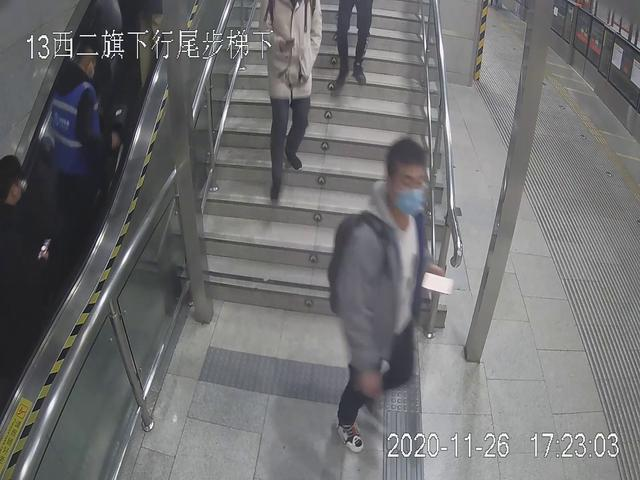person: (319, 137, 448, 452), (263, 3, 325, 202), (44, 38, 113, 195)
